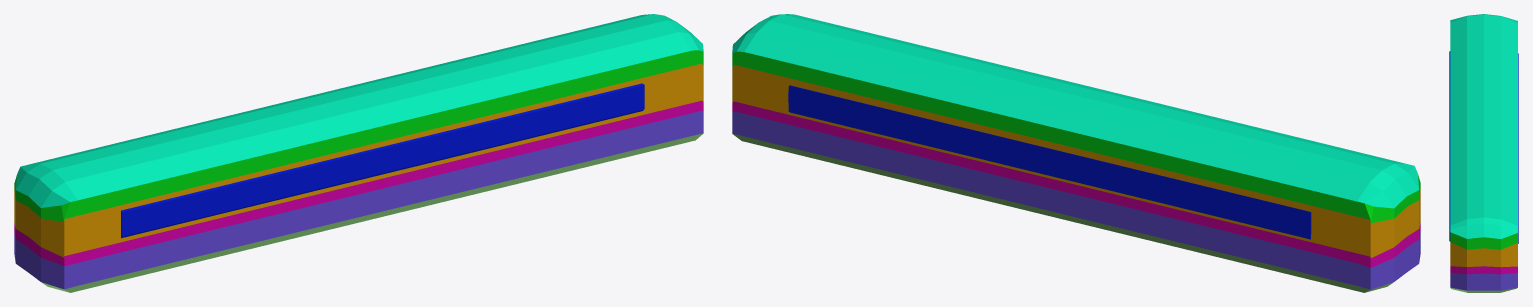
Rendered from fixed_train4.fbx.
The picture shows the model from 3 angles, left to right: view 1: azimuth 30°, elevation 25°; view 2: azimuth 150°, elevation 25°; view 3: azimuth 270°, elevation 25°; orthographic projection. The views are drawn at different scales.
Visible parts, largest first — view 1: Cube; view 2: Cube; view 3: Cube.
Boxes of the visible parts, x1,y1,x2,y2 form: Cube: (14,14,703,292); Cube: (732,14,1420,292); Cube: (1449,14,1518,292).
Bounding box in the file's own units: 210 × 1572 × 235.
